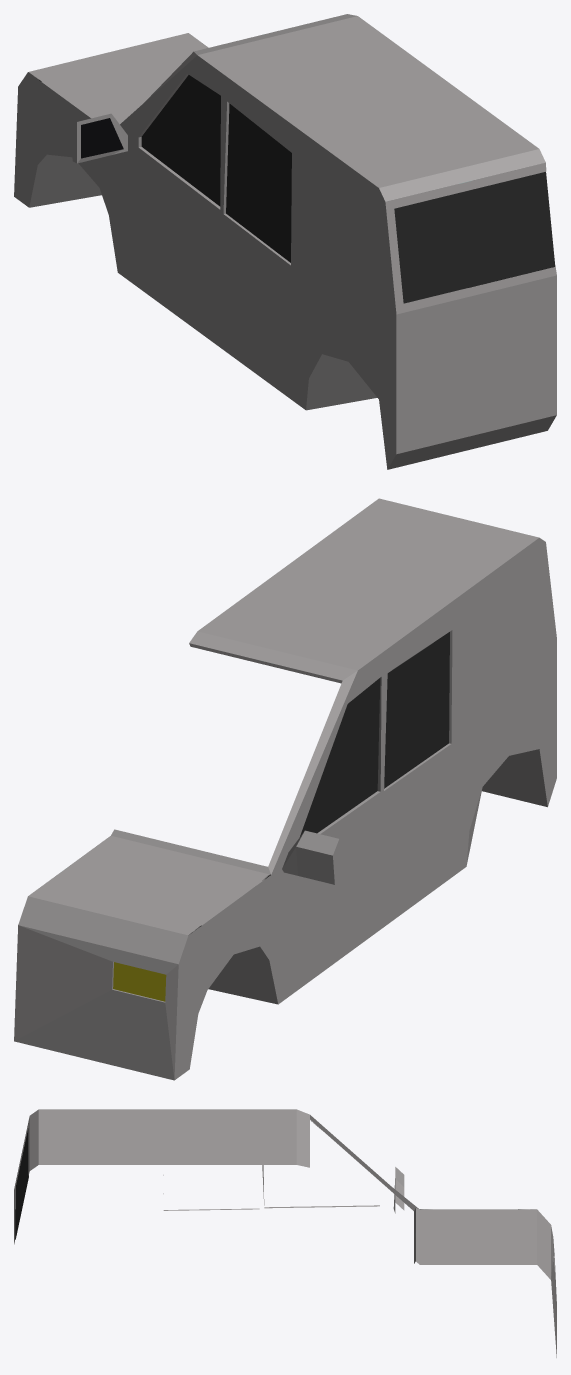
Rendered from car.gltf.
3 views of the same model, one above another, from view 1: azimuth 30°, elevation 25°; view 2: azimuth 150°, elevation 25°; view 3: azimuth 270°, elevation 25° (orthographic). The views are drawn at different scales.
Parts seen in each view (by area): view 1: car, glass; view 2: car; view 3: car.
Boxes of the visible parts, box(x1,y1,x2,y2) form: car: box(14, 14, 556, 469); glass: box(81, 118, 123, 158); car: box(14, 498, 556, 1080); car: box(14, 1109, 556, 1357).
Bounding box in the file's own units: 5.48 × 6.84 × 17.19.
Materials: 2 (1 with a texture image).
